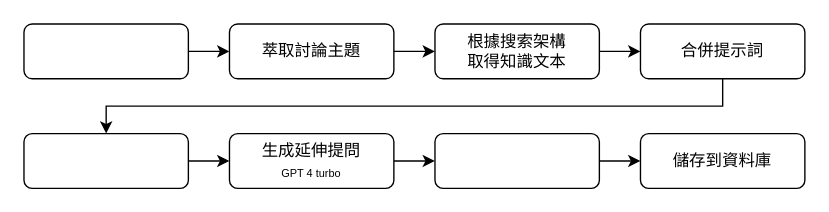
Some shapes in this 829 by 212 pixel diagram are drawn without their labels. The shapes that lost their labels are listed below. From the top down, each one's centre as x and y in pixels, then its label:
[105,51]: 接收留言清單
[105,160]: 生成回應 GPT 4 turbo
[516,160]: 更新資料到 Trello
